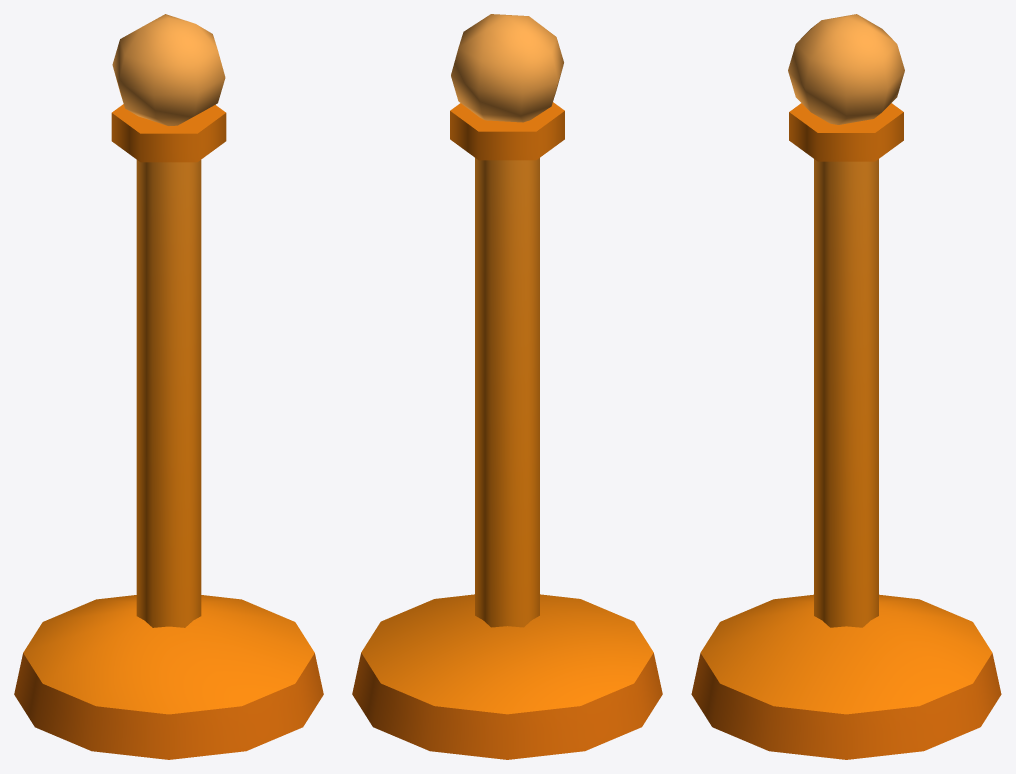
File: Fence_07.obj
The picture shows the model from 3 angles, left to right: view 1: azimuth 30°, elevation 25°; view 2: azimuth 150°, elevation 25°; view 3: azimuth 270°, elevation 25°; orthographic projection.
Visible parts, largest first — view 1: Fence_07; view 2: Fence_07; view 3: Fence_07.
Part boxes in pixels (x1,y1,x2,y2): Fence_07: (14,14,323,759); Fence_07: (352,14,662,759); Fence_07: (691,14,1001,759).
Bounding box in the file's own units: 0.4254 × 1.02 × 0.4254.
1 material, 1 textured.
